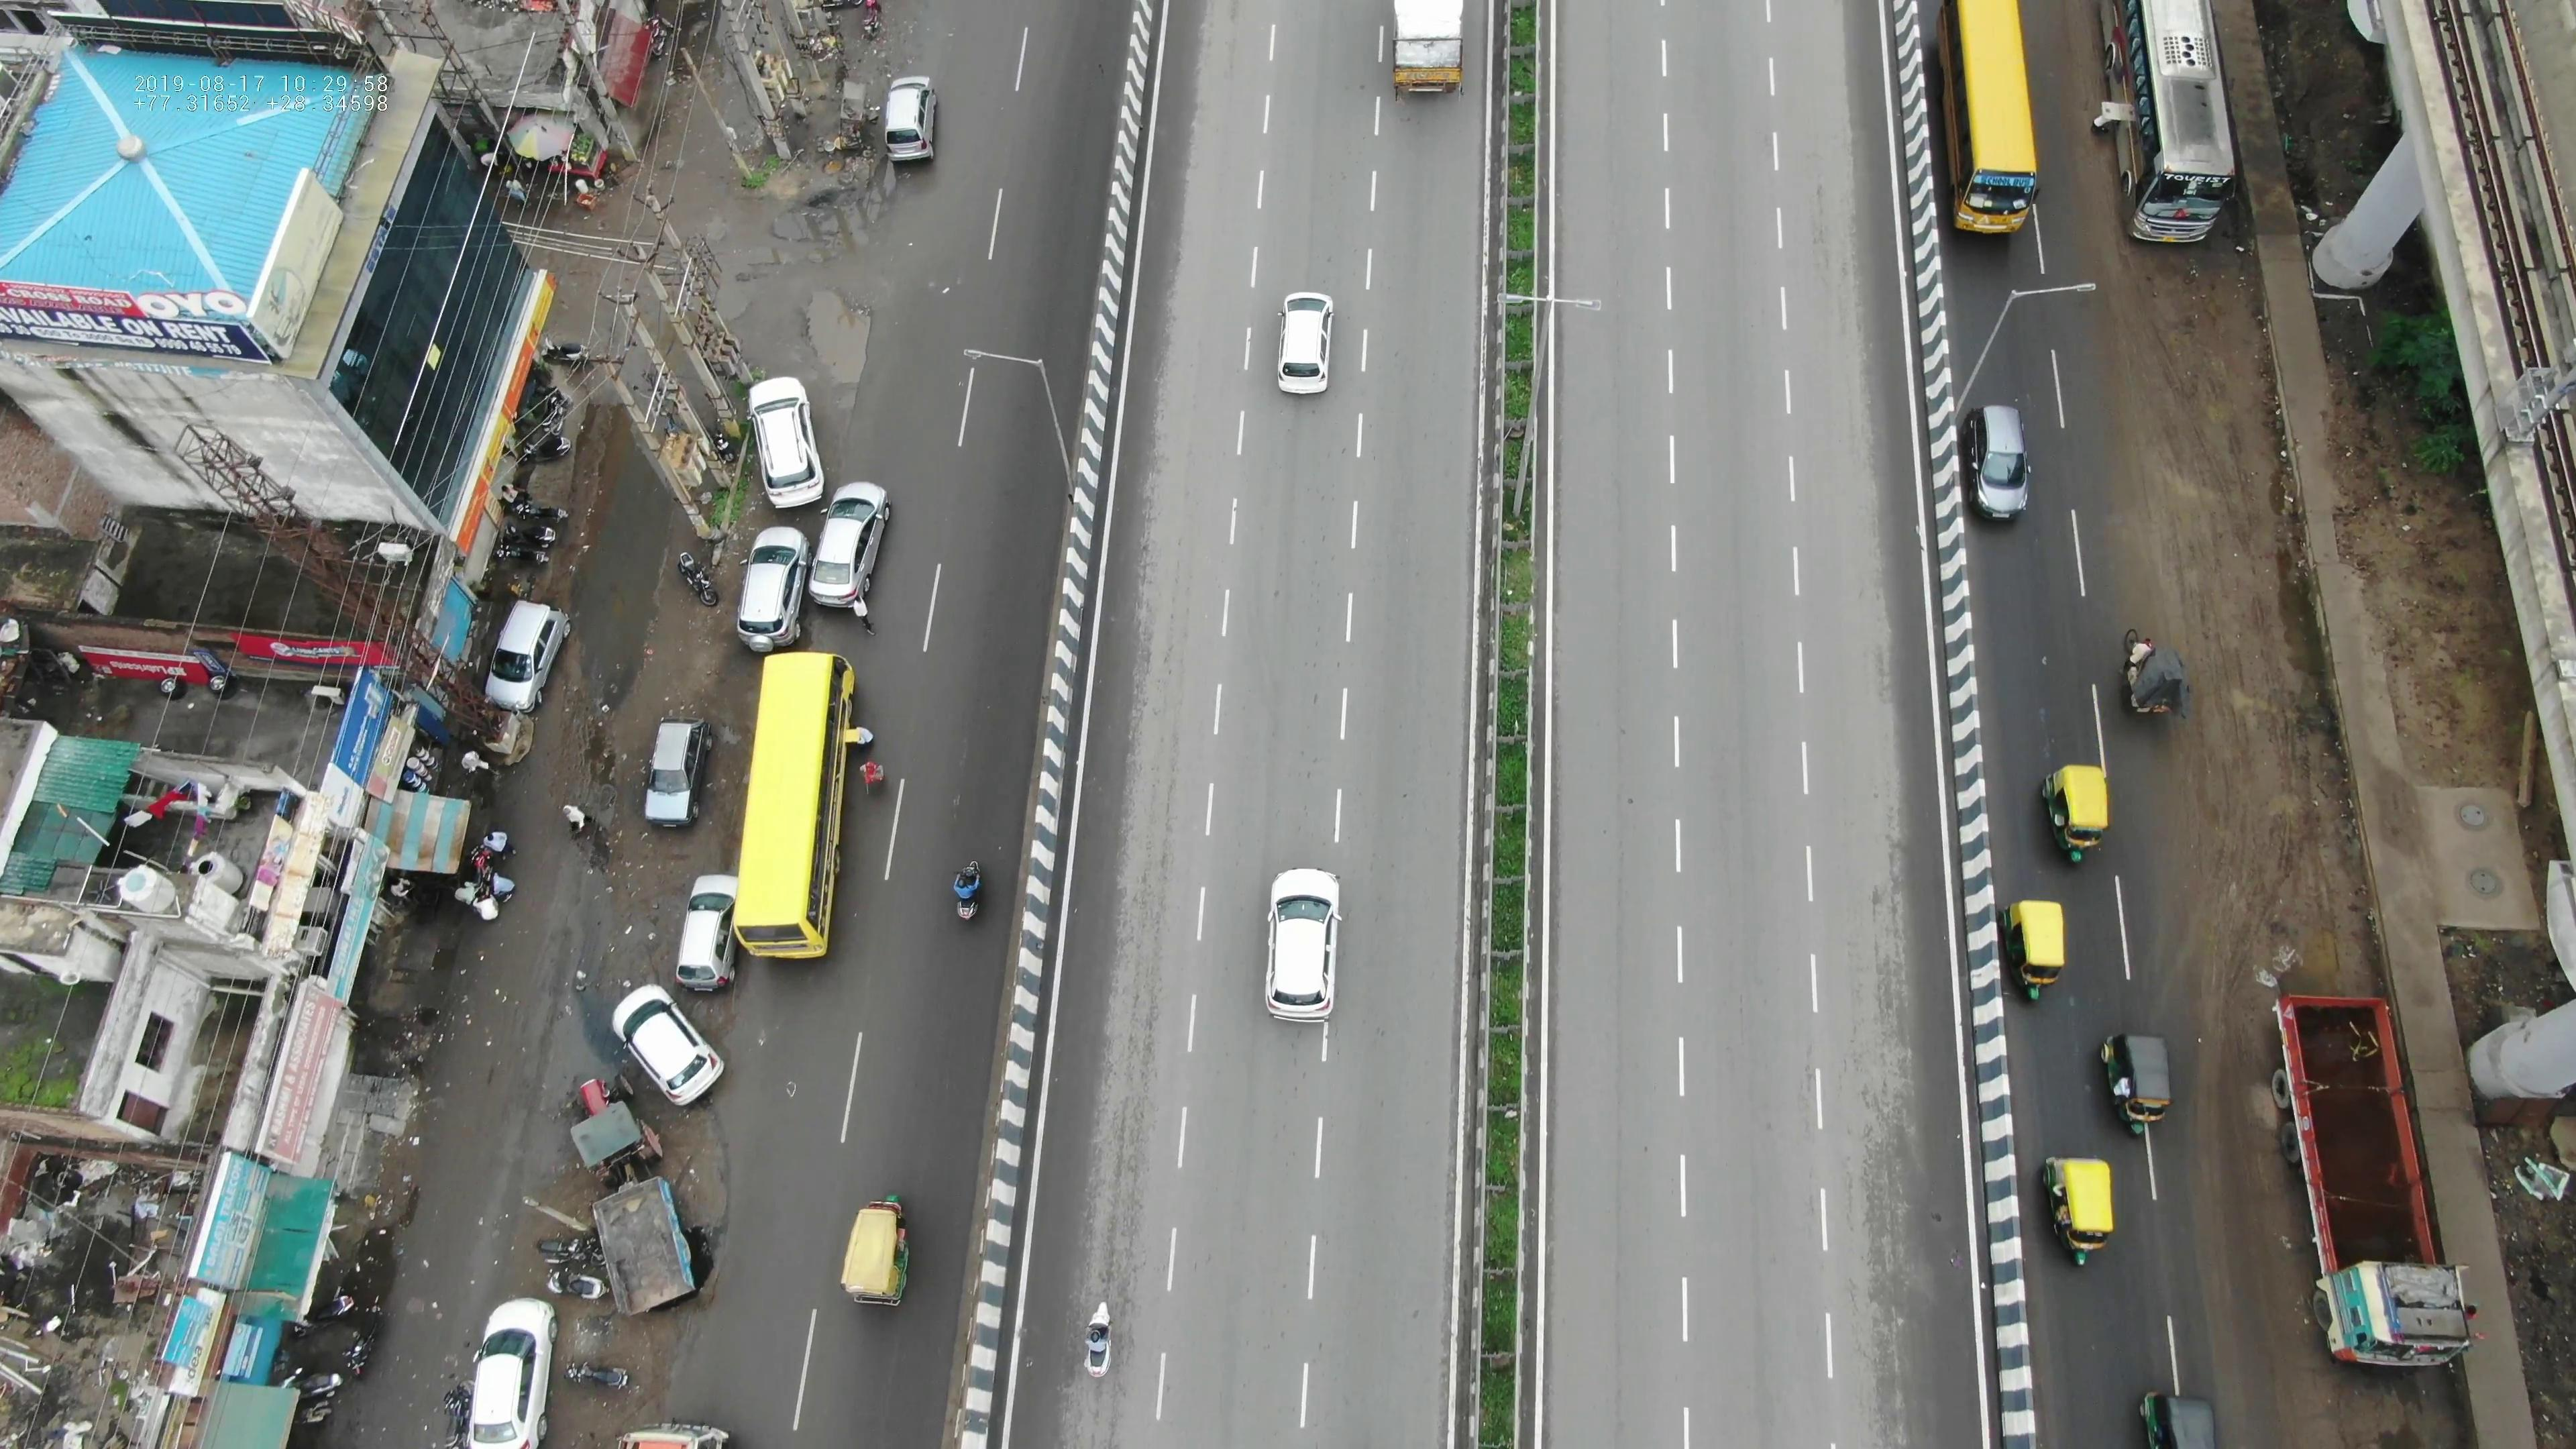Muddy_road: (2189, 610, 2346, 954), (2135, 272, 2273, 582)
Potholes: (786, 274, 916, 433)
